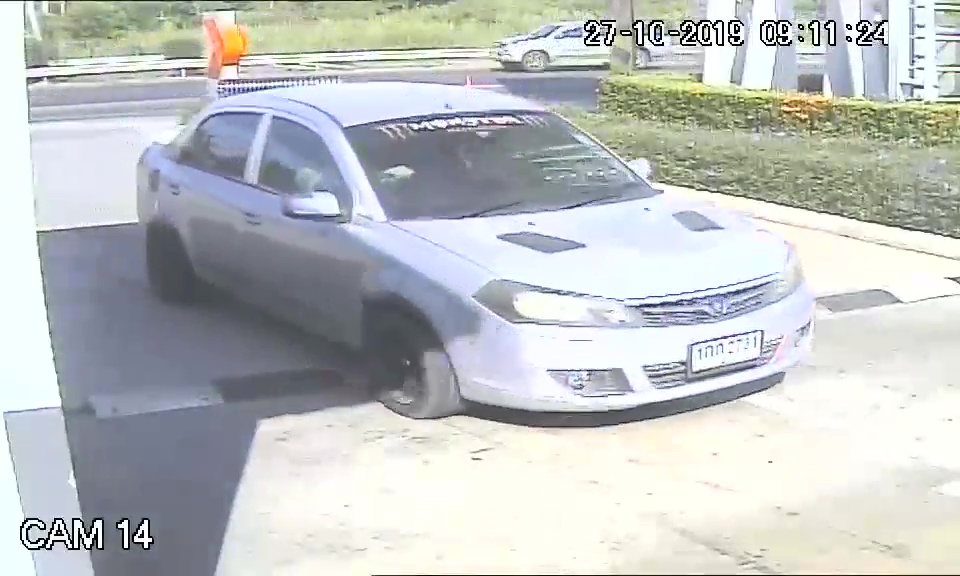sedan: (126, 77, 811, 422)
